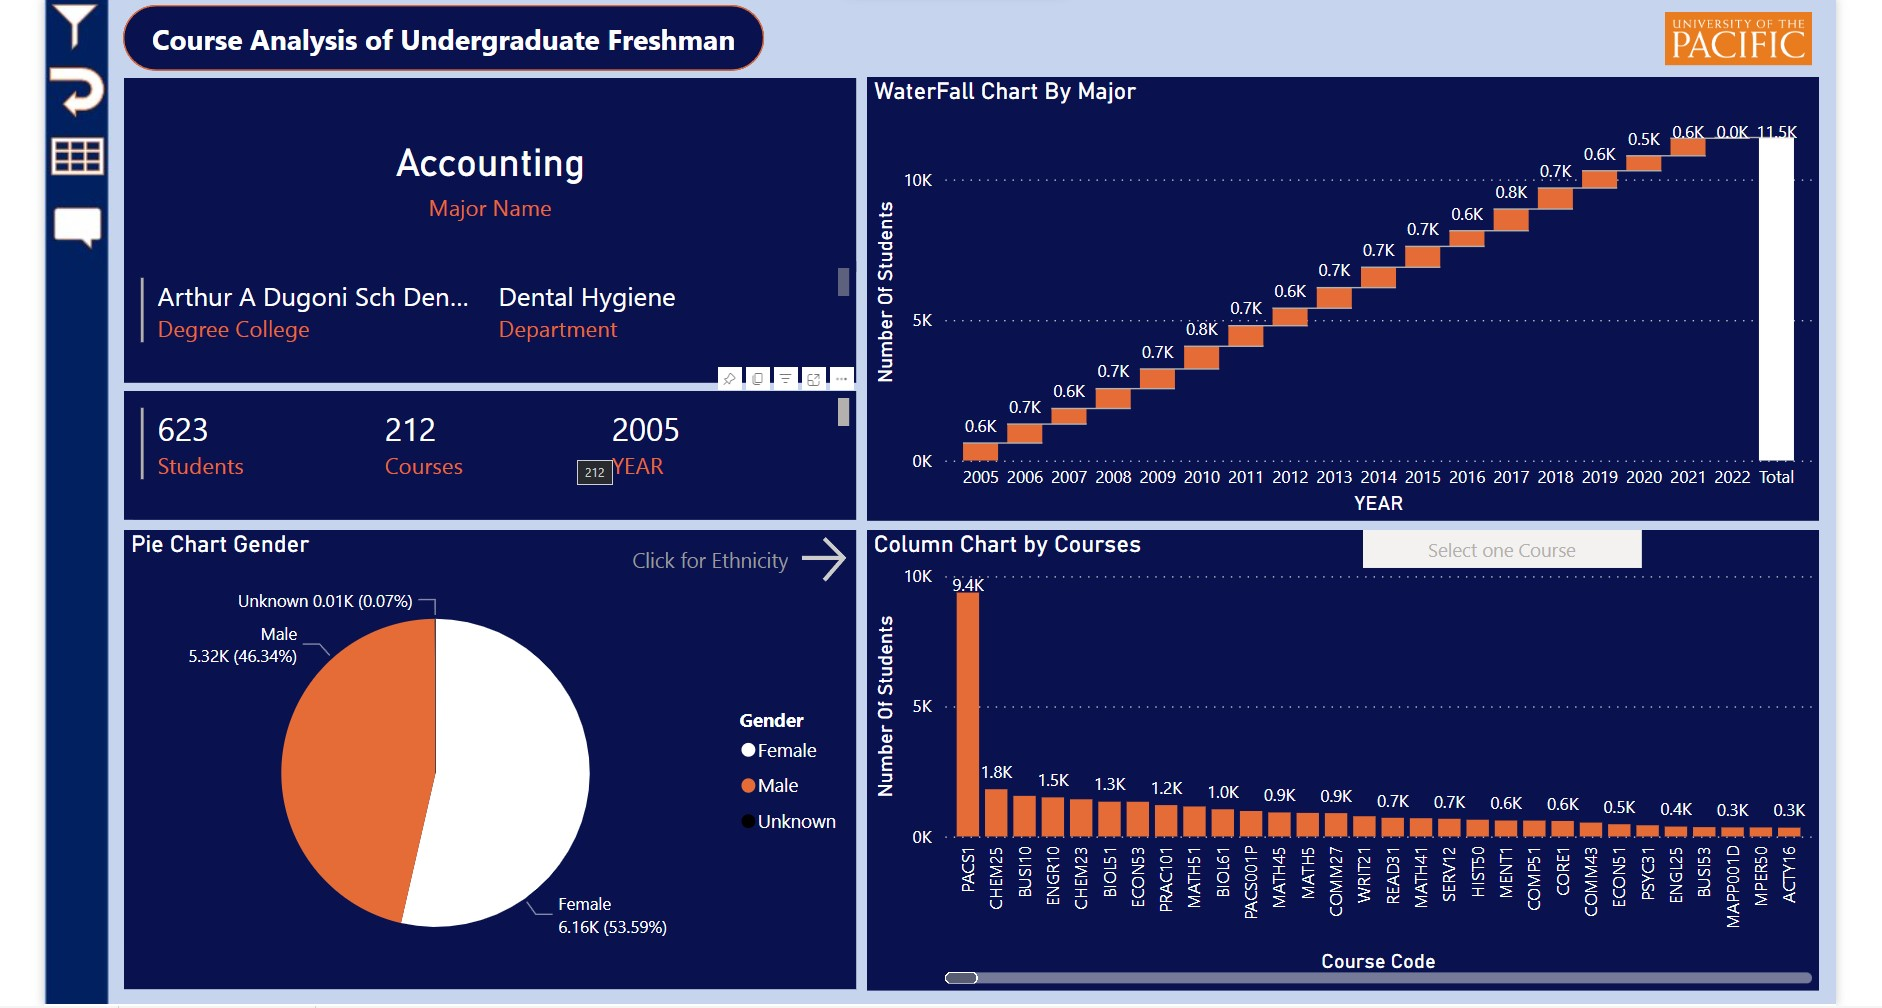

The page's visual inventory and layout, read from the dashboard file:
{"tool":"powerbi","page":{"name":"Overview","canvas":[1280,720],"ordinal":0},"visuals":[{"type":"actionButton","title":"Slicer Overview Button","box":[0,0,47.1,45.3],"z":0},{"type":"pieChart","title":"Pie Chart Gender","fields":{"Category":["Student_Demographics.GENDER_DESC"],"Y":["Count(Student_Demographics.PIDM)"]},"box":[57,380.3,522.6,328],"z":0,"group":"g1"},{"type":"actionButton","title":"Matrix Button","box":[0,92.1,46.6,41.4],"z":1000},{"type":"actionButton","title":"Gender Button","box":[374.3,380.2,203.2,42.2],"z":1000,"group":"g1"},{"type":"columnChart","title":"Column Chart by Courses","fields":{"Y":["Count(Student_AcademicInfo.PIDM)"],"Category":["CourseCode-Title.CRSE_NAME_CODE"]},"box":[587.8,379.9,680.3,328.7],"z":2000},{"type":"card","title":"Major Name Card","fields":{"Values":["Min(Distinct Major.DEGREE_MAJOR)"]},"box":[56.8,56.8,522.9,138.5],"z":3000},{"type":"multiRowCard","title":"Degree&School","fields":{"Values":["Student_Demographics.DEGREE_COLLEGE_NAME","Student_Demographics.MAJOR_DEPARTMENT_DESC"]},"box":[56.8,188.2,522.9,87],"z":4000},{"type":"multiRowCard","title":"Statistics by Major","fields":{"Values":["Count(Student_AcademicInfo.PIDM)","StudentCount_Courses.CRSE_NAME_CODE","StudentCount_Courses.YEAR"]},"box":[63.9,281.4,515.8,91.4],"z":5000},{"type":"multiRowCard","title":"Statistics by Major check","fields":{"Values":["Count(Student_AcademicInfo.PIDM)","Student_AcademicInfo.CRSE_NAME_CODE","Student_AcademicInfo.YEAR"]},"box":[57,281,522.6,92.3],"z":6000},{"type":"waterfallChart","title":"WaterFall Chart By Major","fields":{"Category":["Student_AcademicInfo.YEAR"],"Y":["Count(Student_AcademicInfo.PIDM)"]},"box":[587.8,56.6,680.3,316.7],"z":7000},{"type":"group","id":"g1","title":"PieChart Gender","box":[57,380.2,522.6,328.1],"z":9000},{"type":"shape","title":"Project Title","box":[56.7,4.6,457.9,47.4],"z":10000},{"type":"image","box":[1152.7,0,115.4,57.7],"z":11000},{"type":"actionButton","title":"InfoPanel Button","box":[0,140.8,46.9,46.9],"z":12000},{"type":"actionButton","title":"OverviewPage Reset Button","box":[0,45.7,46.8,46.8],"z":13000},{"type":"actionButton","title":"DrillThrough Button","box":[942.4,380,198.6,27.2],"z":15000}]}

Visuals, with their boxes on the page's 1280x720 design canvas (x1, y1, x2, y2). These are canvas units, not pixel positions in the 1882x1008 screenshot, which may show the page scaled, cropped or inside an application window:
"Slicer Overview Button" actionButton: 0:0:47:45
"Pie Chart Gender" pieChart: 57:380:580:708
"Matrix Button" actionButton: 0:92:47:134
"Gender Button" actionButton: 374:380:578:422
"Column Chart by Courses" columnChart: 588:380:1268:709
"Major Name Card" card: 57:57:580:195
"Degree&School" multiRowCard: 57:188:580:275
"Statistics by Major" multiRowCard: 64:281:580:373
"Statistics by Major check" multiRowCard: 57:281:580:373
"WaterFall Chart By Major" waterfallChart: 588:57:1268:373
"PieChart Gender" group: 57:380:580:708
"Project Title" shape: 57:5:515:52
image: 1153:0:1268:58
"InfoPanel Button" actionButton: 0:141:47:188
"OverviewPage Reset Button" actionButton: 0:46:47:92
"DrillThrough Button" actionButton: 942:380:1141:407
